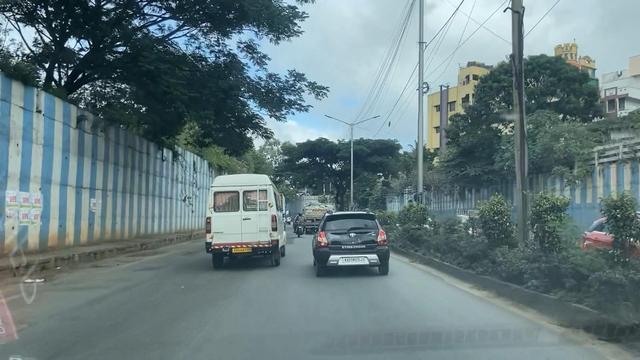HMV: (209, 176, 286, 263)
LMV: (314, 216, 385, 274)
